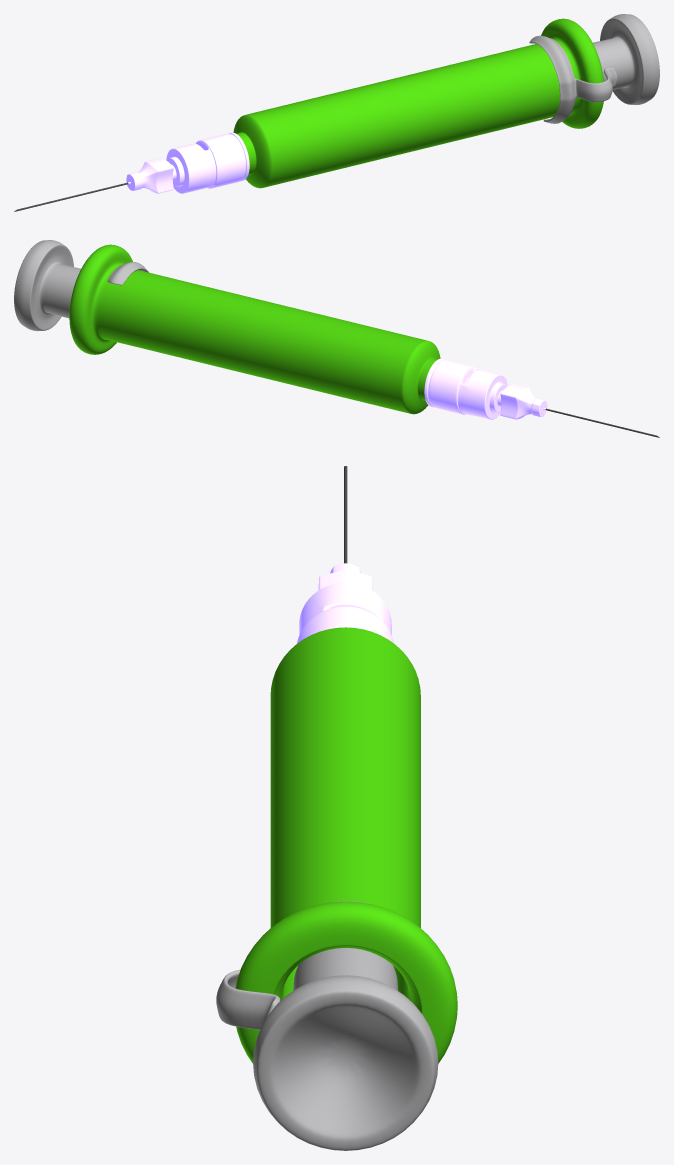
Rendered from injection.fbx.
3 views of the same model, one above another, from view 1: azimuth 30°, elevation 25°; view 2: azimuth 150°, elevation 25°; view 3: azimuth 270°, elevation 25° (orthographic). The views are drawn at different scales.
Parts seen in each view (by area): view 1: middle body, back, head; view 2: middle body, back, head; view 3: middle body, back, head.
Boxes of the visible parts, x1=… form: middle body: x1=233, y1=18, x2=603, y2=188; back: x1=529, y1=14, x2=659, y2=123; head: x1=126, y1=132, x2=249, y2=193; middle body: x1=69, y1=244, x2=440, y2=414; back: x1=14, y1=240, x2=148, y2=331; head: x1=424, y1=358, x2=547, y2=419; middle body: x1=235, y1=627, x2=457, y2=1063; back: x1=216, y1=901, x2=438, y2=1150; head: x1=297, y1=563, x2=393, y2=643.
Bounding box in the file's own units: 4082 × 634 × 684.
